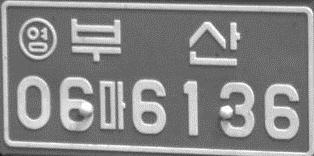0: (15, 74, 51, 130)
1: (174, 79, 209, 137)
3: (218, 81, 255, 139)
6: (131, 78, 168, 135), (263, 82, 300, 139), (58, 76, 93, 132)
마: (97, 79, 127, 131)
부산_D: (69, 17, 241, 66)
영: (17, 15, 56, 61)
